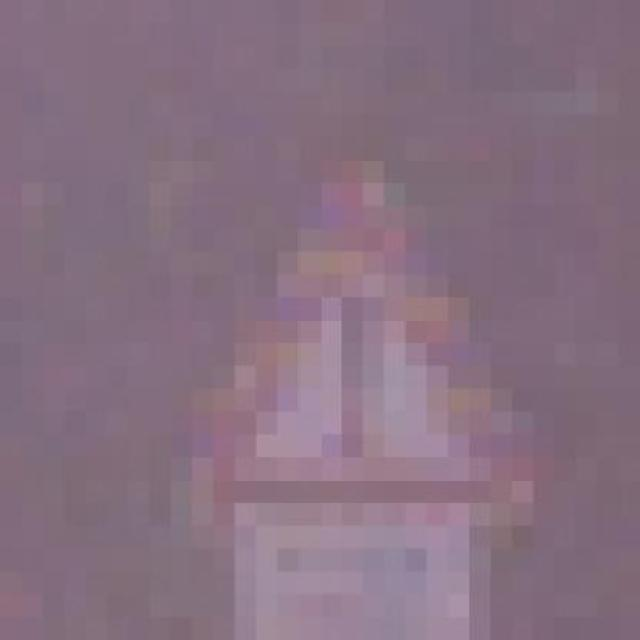Attention Please-: (107, 114, 555, 549)
